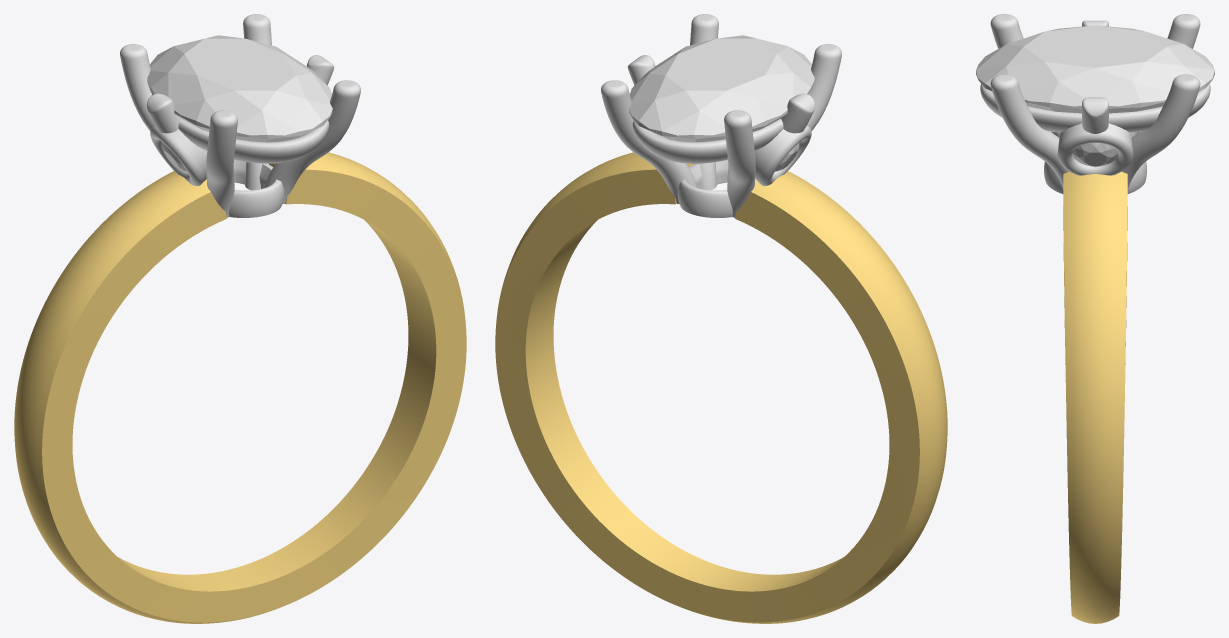
File: Ryan_Sabert_first_render_blender.glb
The picture shows the model from 3 angles, left to right: view 1: azimuth 30°, elevation 25°; view 2: azimuth 150°, elevation 25°; view 3: azimuth 270°, elevation 25°; orthographic projection.
Parts seen in each view (by area): view 1: YG, PT, diamond.002; view 2: YG, PT, diamond.002; view 3: YG, diamond.002, PT, diamond.
Boxes of the visible parts, box(x1,y1,x2,y2) form: YG: box(14, 152, 466, 623); PT: box(120, 14, 360, 217); diamond.002: box(147, 35, 332, 142); YG: box(495, 152, 947, 623); PT: box(601, 14, 841, 217); diamond.002: box(629, 35, 814, 142); YG: box(1063, 171, 1127, 623); diamond.002: box(976, 25, 1214, 113); PT: box(980, 14, 1210, 193); diamond: box(1072, 143, 1118, 167).
Size of the model in its own units: 22.16 by 26.56 by 10.39.
